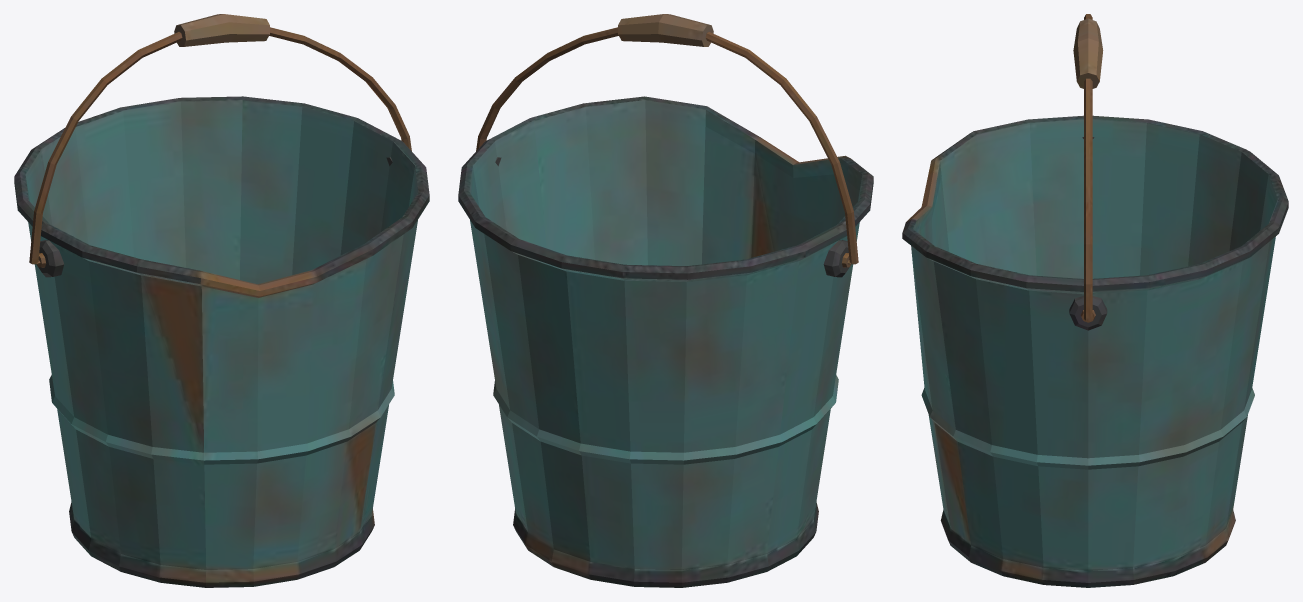
File: D22_bucket_v1.glb
3 renders of one model, left to right at view 1: azimuth 30°, elevation 25°; view 2: azimuth 150°, elevation 25°; view 3: azimuth 270°, elevation 25°, orthographic. The views are drawn at different scales.
Parts seen in each view (by area): view 1: Dented steel bucket; view 2: Dented steel bucket; view 3: Dented steel bucket.
Part boxes in pixels (bbox=[...]): Dented steel bucket: bbox=[14, 14, 429, 587]; Dented steel bucket: bbox=[458, 14, 873, 587]; Dented steel bucket: bbox=[902, 14, 1288, 587].
Bounding box in the file's own units: 0.3144 × 0.4 × 0.2862.
4 materials, 4 textured.
